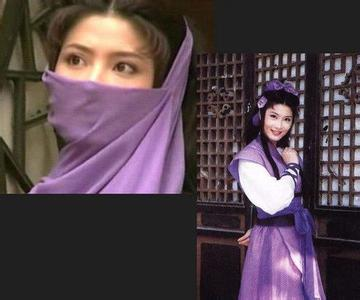NONE: (266, 110, 294, 142)
WRONG: (59, 41, 148, 130)
